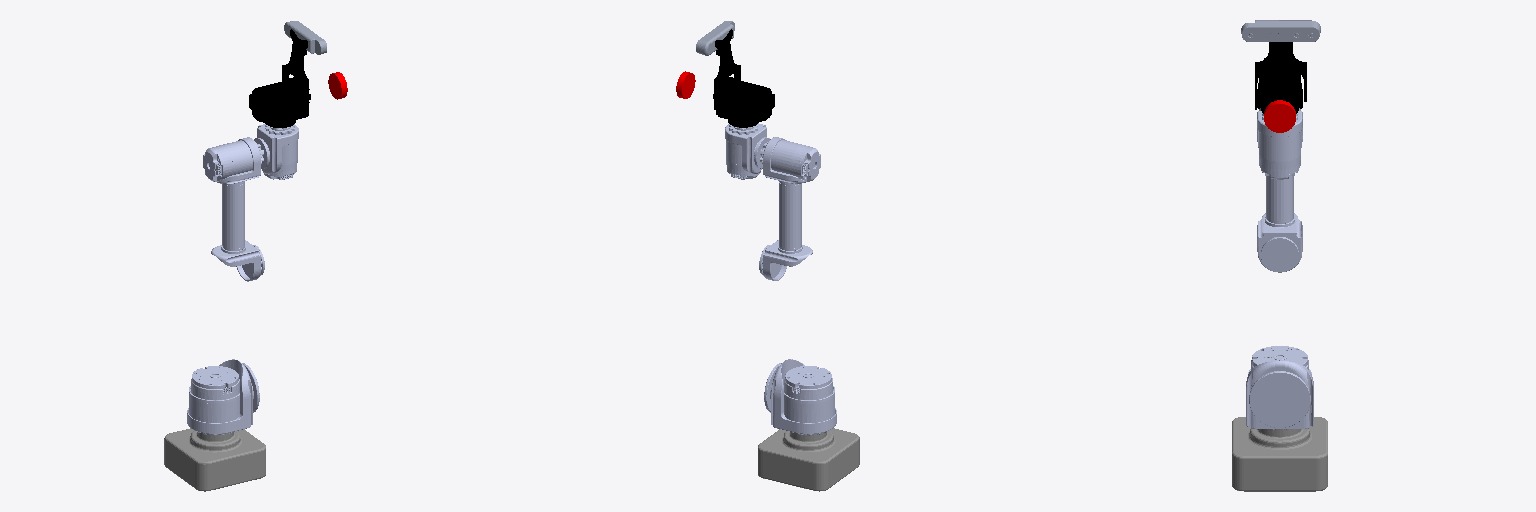
robot.urdf — sunday_description:
<?xml version="1.0" encoding="utf-8"?>
<!-- This URDF was automatically created by SolidWorks to URDF Exporter! Originally created by [author] ([email redacted]) 
     Commit Version: 1.5.1-0-g916b5db  Build Version: 1.5.7152.31018
     For more information, please see http://wiki.ros.org/sw_urdf_exporter -->
<robot
  name="sunday_description">
  <link
    name="base_link">
    <inertial>
      <origin
        xyz="-0.0041595 -0.019776 0.12"
        rpy="0 0 0" />
      <mass
        value="0.76559" />
      <inertia
        ixx="0.0010468"
        ixy="-3.1045E-20"
        ixz="8.2718E-22"
        iyy="0.0016442"
        iyz="6.2283E-18"
        izz="0.0010468" />
    </inertial>
    <visual>
      <origin
        xyz="0 0 0"
        rpy="0 0 0" />
      <geometry>
        <mesh
          filename="package://sunday_description/meshes/base_link.STL" />
      </geometry>
      <material
        name="">
        <color
          rgba="0.62745 0.62745 0.62745 1" />
      </material>
    </visual>
    <collision>
      <origin
        xyz="0 0 0"
        rpy="0 0 0" />
      <geometry>
        <mesh
          filename="package://sunday_description/meshes/base_link.STL" />
      </geometry>
    </collision>
  </link>
  <link
    name="link_1">
    <inertial>
      <origin
        xyz="4.4076E-07 0.0088489 0.03981"
        rpy="0 0 0" />
      <mass
        value="0.46337" />
      <inertia
        ixx="0.000358"
        ixy="-8.3345E-09"
        ixz="-1.4634E-08"
        iyy="0.00035762"
        iyz="-5.6927E-05"
        izz="0.00039427" />
    </inertial>
    <visual>
      <origin
        xyz="0 0 0"
        rpy="0 0 0" />
      <geometry>
        <mesh
          filename="package://sunday_description/meshes/link_1.STL" />
      </geometry>
      <material
        name="">
        <color
          rgba="0.79216 0.81961 0.93333 1" />
      </material>
    </visual>
    <collision>
      <origin
        xyz="0 0 0"
        rpy="0 0 0" />
      <geometry>
        <mesh
          filename="package://sunday_description/meshes/link_1.STL" />
      </geometry>
    </collision>
  </link>
  <joint
    name="joint_1"
    type="revolute">
    <origin
      xyz="-0.0041595 -0.12 0.026051"
      rpy="0 0 -1.5708" />
    <parent
      link="base_link" />
    <child
      link="link_1" />
    <axis
      xyz="0 0 1" />
    <limit
      lower="-2.79"
      upper="2.79"
      effort="30"
      velocity="3.14" />
  </joint>
  <link
    name="link_2">
    <inertial>
      <origin
        xyz="5.2117E-07 0.050183 0.046384"
        rpy="0 0 0" />
      <mass
        value="0.69106" />
      <inertia
        ixx="0.00048535"
        ixy="1.5042E-08"
        ixz="8.3749E-09"
        iyy="0.00052479"
        iyz="-4.8482E-05"
        izz="0.00040517" />
    </inertial>
    <visual>
      <origin
        xyz="0 0 0"
        rpy="0 0 0" />
      <geometry>
        <mesh
          filename="package://sunday_description/meshes/link_2.STL" />
      </geometry>
      <material
        name="">
        <color
          rgba="0.75294 0.75294 0.75294 1" />
      </material>
    </visual>
    <collision>
      <origin
        xyz="0 0 0"
        rpy="0 0 0" />
      <geometry>
        <mesh
          filename="package://sunday_description/meshes/link_2.STL" />
      </geometry>
    </collision>
  </link>
  <joint
    name="joint_2"
    type="revolute">
    <origin
      xyz="0 0.054512 0.049518"
      rpy="-0.0041482 0 0" />
    <parent
      link="link_1" />
    <child
      link="link_2" />
    <axis
      xyz="0 -0.99999 -0.0041482" />
    <limit
      lower="-1.54"
      upper="1.54"
      effort="30"
      velocity="3.14" />
  </joint>
  <link
    name="link_3">
    <inertial>
      <origin
        xyz="-2.3744E-06 0.013658 -0.095655"
        rpy="0 0 0" />
      <mass
        value="0.23037" />
      <inertia
        ixx="0.0001486"
        ixy="-3.2598E-10"
        ixz="-5.6218E-11"
        iyy="0.00014366"
        iyz="3.0147E-10"
        izz="7.1698E-05" />
    </inertial>
    <visual>
      <origin
        xyz="0 0 0"
        rpy="0 0 0" />
      <geometry>
        <mesh
          filename="package://sunday_description/meshes/link_3.STL" />
      </geometry>
      <material
        name="">
        <color
          rgba="0.79216 0.81961 0.93333 1" />
      </material>
    </visual>
    <collision>
      <origin
        xyz="0 0 0"
        rpy="0 0 0" />
      <geometry>
        <mesh
          filename="package://sunday_description/meshes/link_3.STL" />
      </geometry>
    </collision>
  </link>
  <joint
    name="joint_3"
    type="revolute">
    <origin
      xyz="0 -0.0008547 0.20604"
      rpy="-3.1374 0 0" />
    <parent
      link="link_2" />
    <child
      link="link_3" />
    <axis
      xyz="0 1 0" />
    <limit
      lower="-2.79"
      upper="2.79"
      effort="30"
      velocity="3.14" />
  </joint>
  <link
    name="link_4">
    <inertial>
      <origin
        xyz="-6.4344E-06 -0.026419 -0.014391"
        rpy="0 0 0" />
      <mass
        value="0.082188" />
      <inertia
        ixx="3.0297E-05"
        ixy="2.4262E-11"
        ixz="-2.0981E-10"
        iyy="3.1167E-05"
        iyz="-7.9506E-06"
        izz="2.8342E-05" />
    </inertial>
    <visual>
      <origin
        xyz="0 0 0"
        rpy="0 0 0" />
      <geometry>
        <mesh
          filename="package://sunday_description/meshes/link_4.STL" />
      </geometry>
      <material
        name="">
        <color
          rgba="0.79216 0.81961 0.93333 1" />
      </material>
    </visual>
    <collision>
      <origin
        xyz="0 0 0"
        rpy="0 0 0" />
      <geometry>
        <mesh
          filename="package://sunday_description/meshes/link_4.STL" />
      </geometry>
    </collision>
  </link>
  <joint
    name="joint_4"
    type="revolute">
    <origin
      xyz="0 -0.02136 -0.17442"
      rpy="0 0 0" />
    <parent
      link="link_3" />
    <child
      link="link_4" />
    <axis
      xyz="0 -1 0" />
    <limit
      lower="-2.79"
      upper="2.79"
      effort="30"
      velocity="3.14" />
  </joint>
  <link
    name="link_5">
    <inertial>
      <origin
        xyz="0.00020466 -0.017155 -0.036587"
        rpy="0 0 0" />
      <mass
        value="0.10205" />
      <inertia
        ixx="3.9776E-05"
        ixy="-5.7559E-07"
        ixz="-2.1528E-06"
        iyy="4.4113E-05"
        iyz="-9.1947E-06"
        izz="3.8817E-05" />
    </inertial>
    <visual>
      <origin
        xyz="0 0 0"
        rpy="0 0 0" />
      <geometry>
        <mesh
          filename="package://sunday_description/meshes/link_5.STL" />
      </geometry>
      <material
        name="">
        <color
          rgba="0 0 0 1" />
      </material>
    </visual>
    <collision>
      <origin
        xyz="0 0 0"
        rpy="0 0 0" />
      <geometry>
        <mesh
          filename="package://sunday_description/meshes/link_5.STL" />
      </geometry>
    </collision>
  </link>
  <joint
    name="joint_5"
    type="revolute">
    <origin
      xyz="0 -0.03573 -0.044358"
      rpy="0 0 0" />
    <parent
      link="link_4" />
    <child
      link="link_5" />
    <axis
      xyz="0 0 -1" />
    <limit
      lower="-2.79"
      upper="2.79"
      effort="30"
      velocity="3.14" />
  </joint>
  <link
    name="link_6">
    <inertial>
      <origin
        xyz="2.7756E-17 0 0"
        rpy="0 0 0" />
      <mass
        value="0.012566" />
      <inertia
        ixx="2.5133E-06"
        ixy="1.6577E-20"
        ixz="-3.3404E-20"
        iyy="1.3614E-06"
        iyz="-2.7021E-23"
        izz="1.3614E-06" />
    </inertial>
    <visual>
      <origin
        xyz="0 0 0"
        rpy="0 0 0" />
      <geometry>
        <mesh
          filename="package://sunday_description/meshes/link_6.STL" />
      </geometry>
      <material
        name="">
        <color
          rgba="1 0 0 1" />
      </material>
    </visual>
    <collision>
      <origin
        xyz="0 0 0"
        rpy="0 0 0" />
      <geometry>
        <mesh
          filename="package://sunday_description/meshes/link_6.STL" />
      </geometry>
    </collision>
  </link>
  <joint
    name="joint_6"
    type="revolute">
    <origin
      xyz="0 -0.099358 -0.03573"
      rpy="-1.5708 0 -1.5708" />
    <parent
      link="link_5" />
    <child
      link="link_6" />
    <axis
      xyz="1 0 0" />
    <limit
      lower="-2.79"
      upper="2.79"
      effort="30"
      velocity="3.14" />
  </joint>
  <link
    name="realsense">
    <inertial>
      <origin
        xyz="-0.0096916 -7.0438E-05 -0.0032432"
        rpy="0 0 0" />
      <mass
        value="0.10331" />
      <inertia
        ixx="7.3623E-05"
        ixy="2.0488E-08"
        ixz="-1.8002E-06"
        iyy="7.2833E-05"
        iyz="1.969E-08"
        izz="7.3133E-06" />
    </inertial>
    <visual>
      <origin
        xyz="0 0 0"
        rpy="0 0 0" />
      <geometry>
        <mesh
          filename="package://sunday_description/meshes/realsense.STL" />
      </geometry>
      <material
        name="">
        <color
          rgba="0.66667 0.69804 0.76863 1" />
      </material>
    </visual>
    <collision>
      <origin
        xyz="0 0 0"
        rpy="0 0 0" />
      <geometry>
        <mesh
          filename="package://sunday_description/meshes/realsense.STL" />
      </geometry>
    </collision>
  </link>
  <joint
    name="realsense_joint"
    type="fixed">
    <origin
      xyz="-0.00068847 -0.054242 -0.12654"
      rpy="-1.5708 0 -1.5708" />
    <parent
      link="link_5" />
    <child
      link="realsense" />
    <axis
      xyz="0 0 0" />
  </joint>





  
</robot>

--- Facts derived from the render (not from the file) ---
The picture shows the robot from 3 angles, left to right: view 1: azimuth 30°, elevation 25°; view 2: azimuth 150°, elevation 25°; view 3: azimuth 270°, elevation 25°; orthographic projection.
Model sunday_description with 8 links and 7 joints (6 revolute, 1 fixed), rooted at base_link, posed all joints at 0.
Links seen in each view (by area): view 1: base_link, link_3, link_1, link_5, link_4, realsense; view 2: base_link, link_3, link_1, link_5, link_4, realsense; view 3: base_link, link_1, link_3, link_5, link_4, realsense, link_6.
Boxes of the visible links, x1,y1,x2,y2 form: base_link: (164, 428, 265, 491); link_3: (203, 137, 264, 281); link_1: (187, 359, 259, 435); link_5: (249, 29, 310, 127); link_4: (254, 124, 298, 179); realsense: (284, 21, 326, 54); base_link: (758, 428, 859, 491); link_3: (759, 137, 820, 280); link_1: (764, 359, 836, 435); link_5: (713, 29, 774, 127); link_4: (725, 123, 769, 179); realsense: (696, 21, 734, 55); base_link: (1232, 417, 1327, 491); link_1: (1246, 346, 1313, 429); link_3: (1257, 108, 1302, 272); link_5: (1255, 42, 1306, 113); link_4: (1257, 111, 1302, 179); realsense: (1241, 20, 1320, 41); link_6: (1264, 100, 1295, 132).
Size in the robot's own frame: 0.2759 by 0.12 by 0.6862 metres.
Meshes: 8 distinct files referenced, 7 mesh visuals loaded (7 binary STL); not drawn: 1 (reference not matched to a file when rendering).